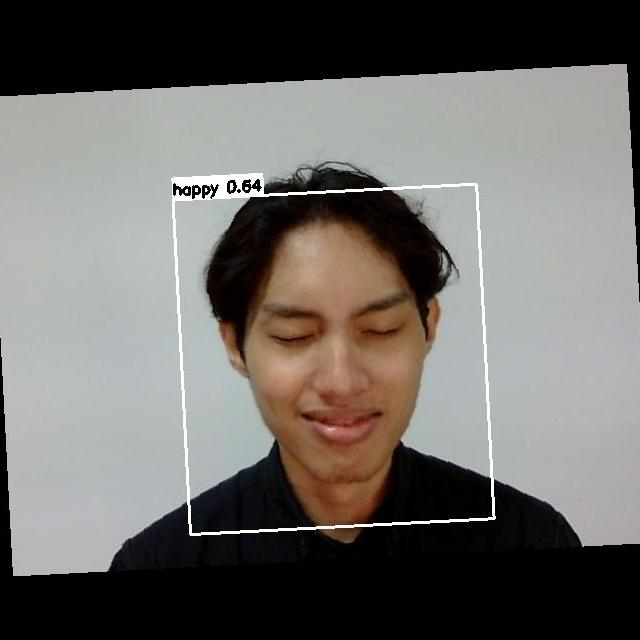Sad: (242, 259, 442, 459)
